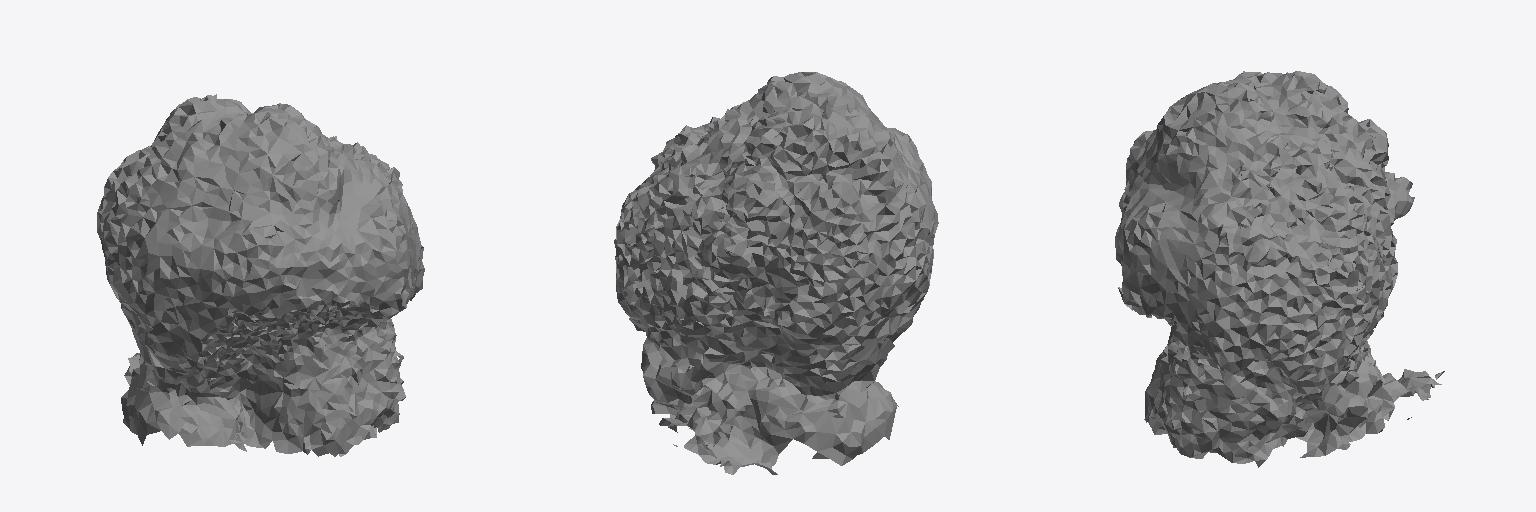
Rendered from coral.obj.
The picture shows the model from 3 angles: view 1: azimuth 30°, elevation 25°; view 2: azimuth 150°, elevation 25°; view 3: azimuth 270°, elevation 25°; orthographic projection.
Visible parts, largest first — view 1: CoralHead_04; view 2: CoralHead_04; view 3: CoralHead_04.
Part boxes in pixels (left/top/right/bottom): CoralHead_04: left=97, top=94, right=424, bottom=456; CoralHead_04: left=614, top=72, right=938, bottom=474; CoralHead_04: left=1115, top=71, right=1444, bottom=467.
Bounding box in the file's own units: 13.64 × 14.71 × 13.38.